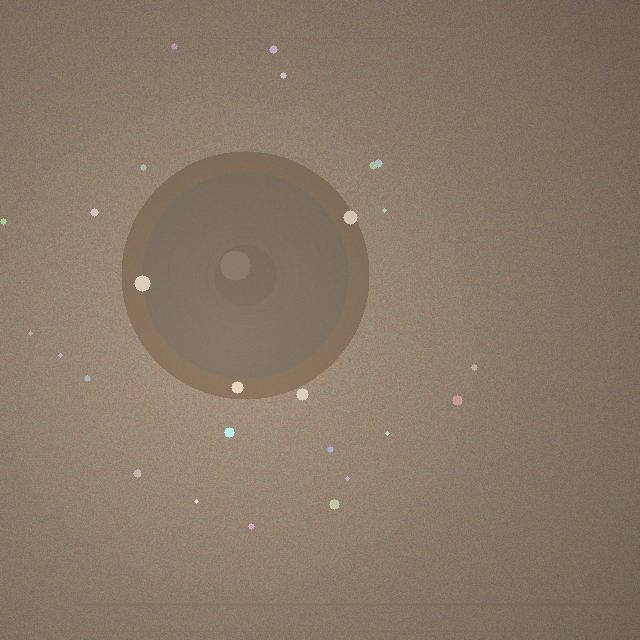overburn: (121, 151, 369, 399)
